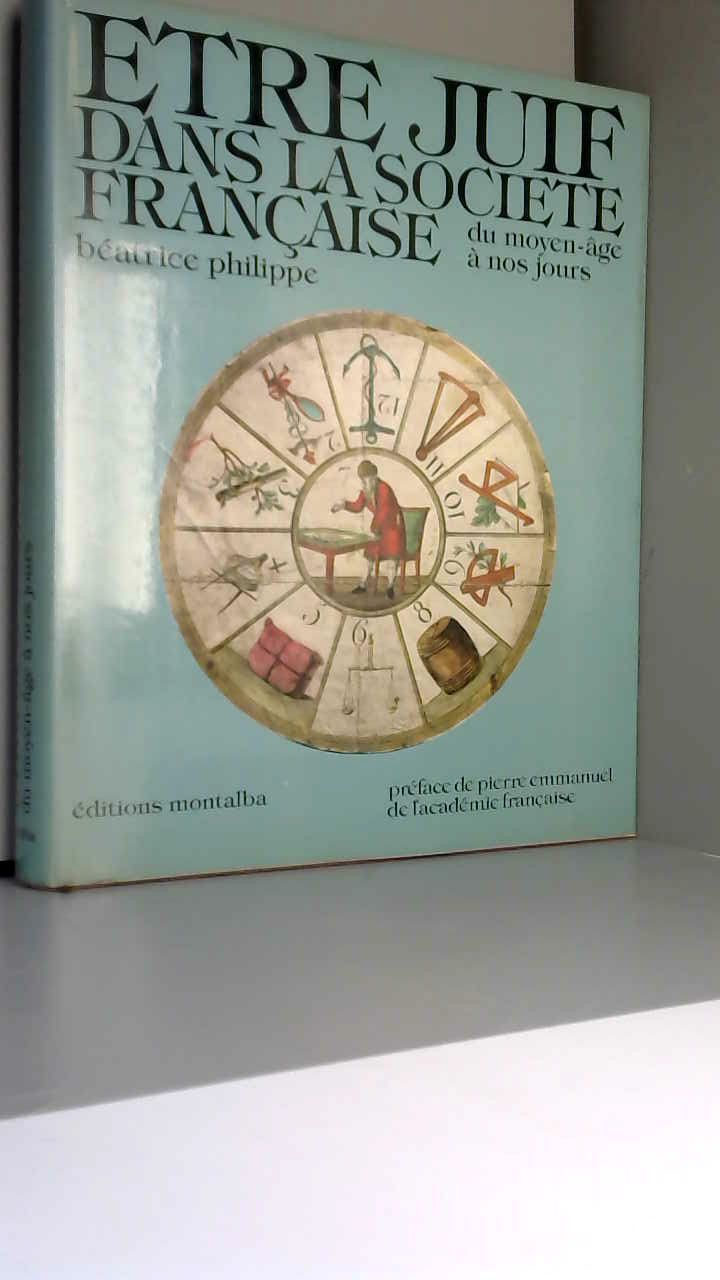book: (0, 0, 668, 921)
